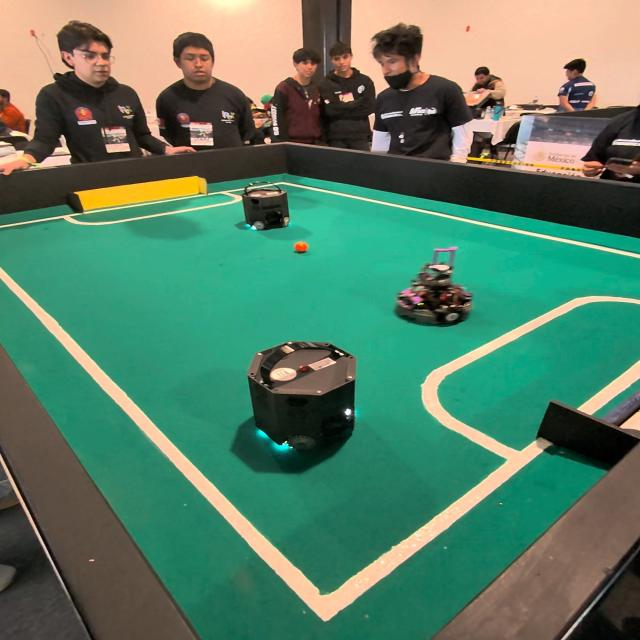Robot: (244, 318, 358, 474), (395, 258, 475, 329), (239, 178, 294, 238)
pelota: (293, 242, 308, 253)
